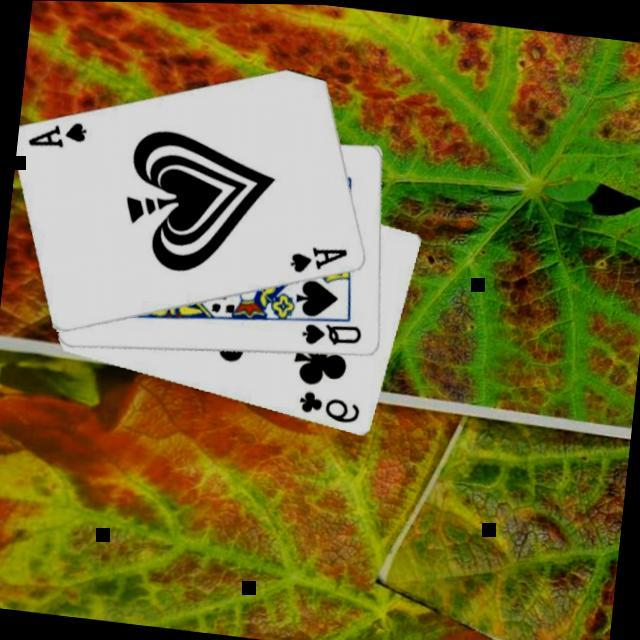6C: (296, 386, 366, 428)
AS: (26, 114, 93, 156), (288, 239, 352, 281)
QS: (299, 316, 367, 354)
